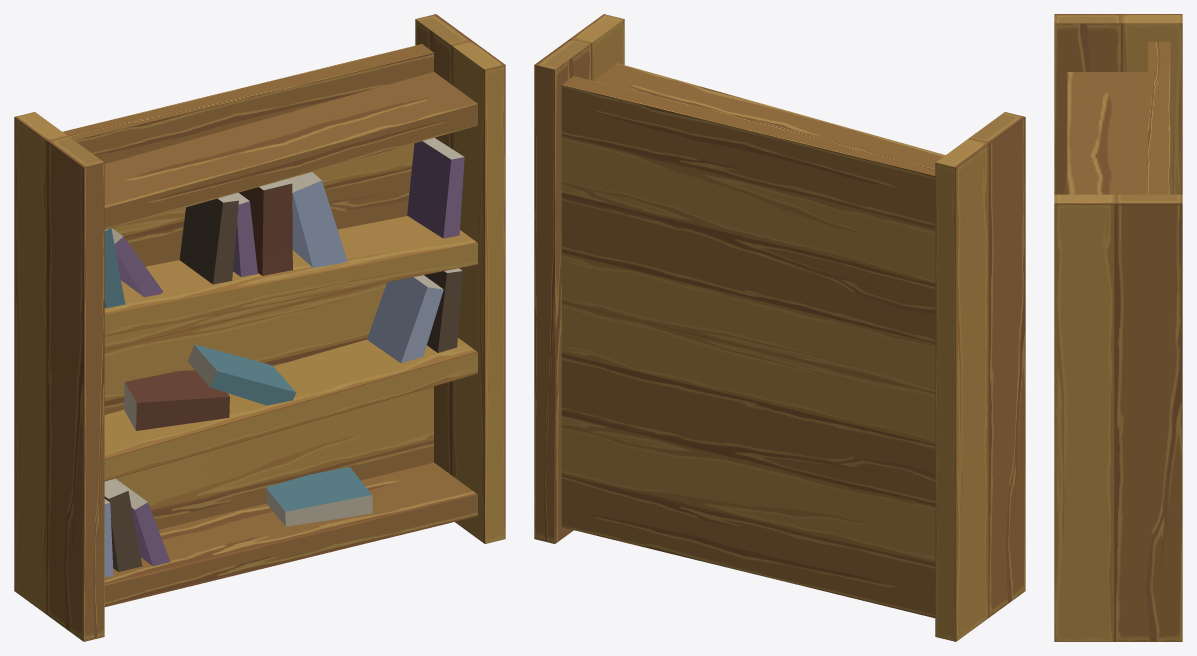
The model's file is Bookshelf_2.fbx.
3 renders of one model, left to right at view 1: azimuth 30°, elevation 25°; view 2: azimuth 150°, elevation 25°; view 3: azimuth 270°, elevation 25°, orthographic. The views are drawn at different scales.
Parts seen in each view (by area): view 1: Bookshelf_21; view 2: Bookshelf_21; view 3: Bookshelf_21.
Part boxes in pixels (<box>): Bookshelf_21: <box>14,14,505,641</box>; Bookshelf_21: <box>534,14,1025,641</box>; Bookshelf_21: <box>1054,14,1182,641</box>.
Bounding box in the file's own units: 52.82 × 56.75 × 15.08.
